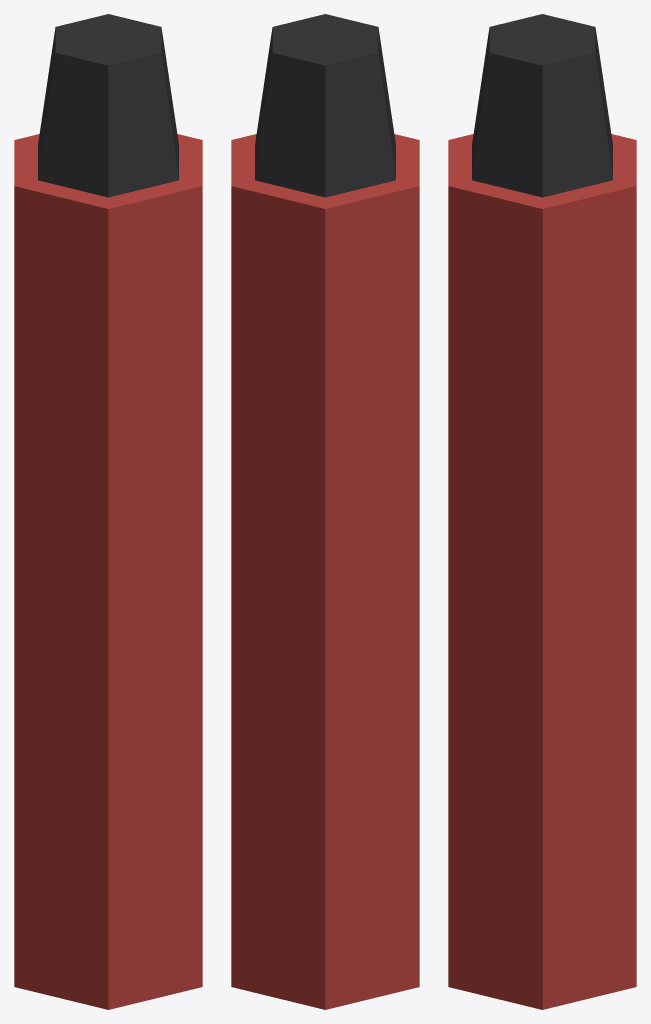
Rendered from linear_lod2.glb.
3 views of the same model, side by side, from view 1: azimuth 30°, elevation 25°; view 2: azimuth 150°, elevation 25°; view 3: azimuth 270°, elevation 25° (orthographic).
Parts seen in each view (by area): view 1: linear_lod2; view 2: linear_lod2; view 3: linear_lod2.
Boxes of the visible parts, box(x1,y1,x2,y2) form: linear_lod2: box(14, 14, 202, 1009); linear_lod2: box(231, 14, 419, 1009); linear_lod2: box(448, 14, 636, 1009).
Bounding box in the file's own units: 0.032 × 0.15 × 0.0277.
